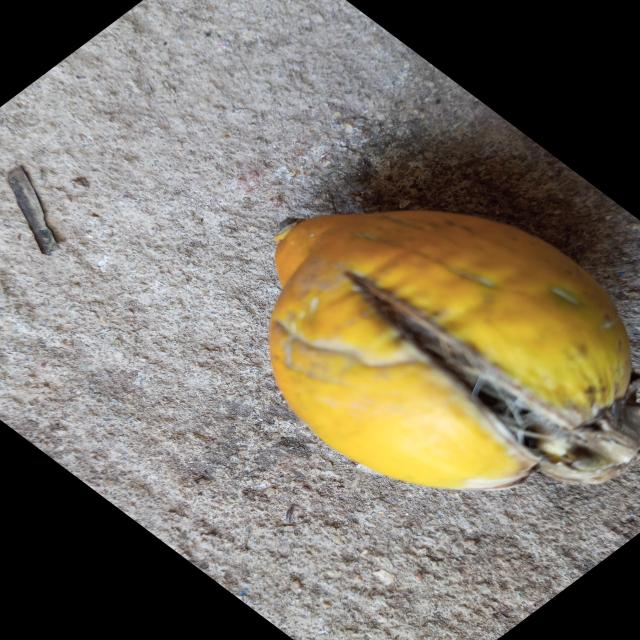damaged: (266, 209, 640, 493)
